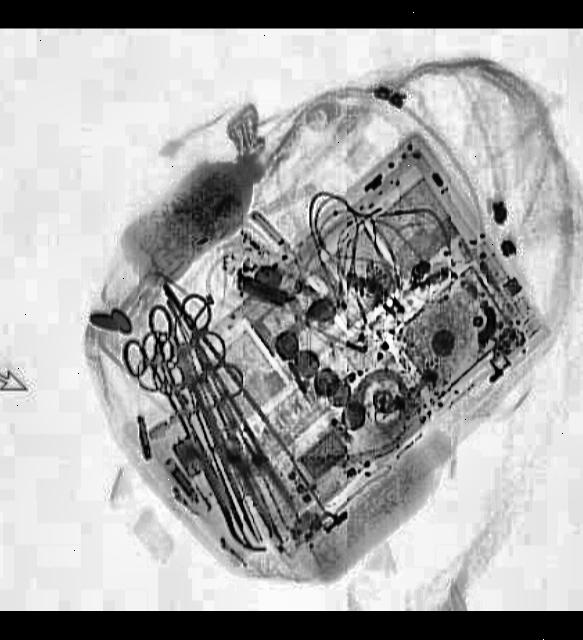Scissors: (106, 304, 226, 451)
